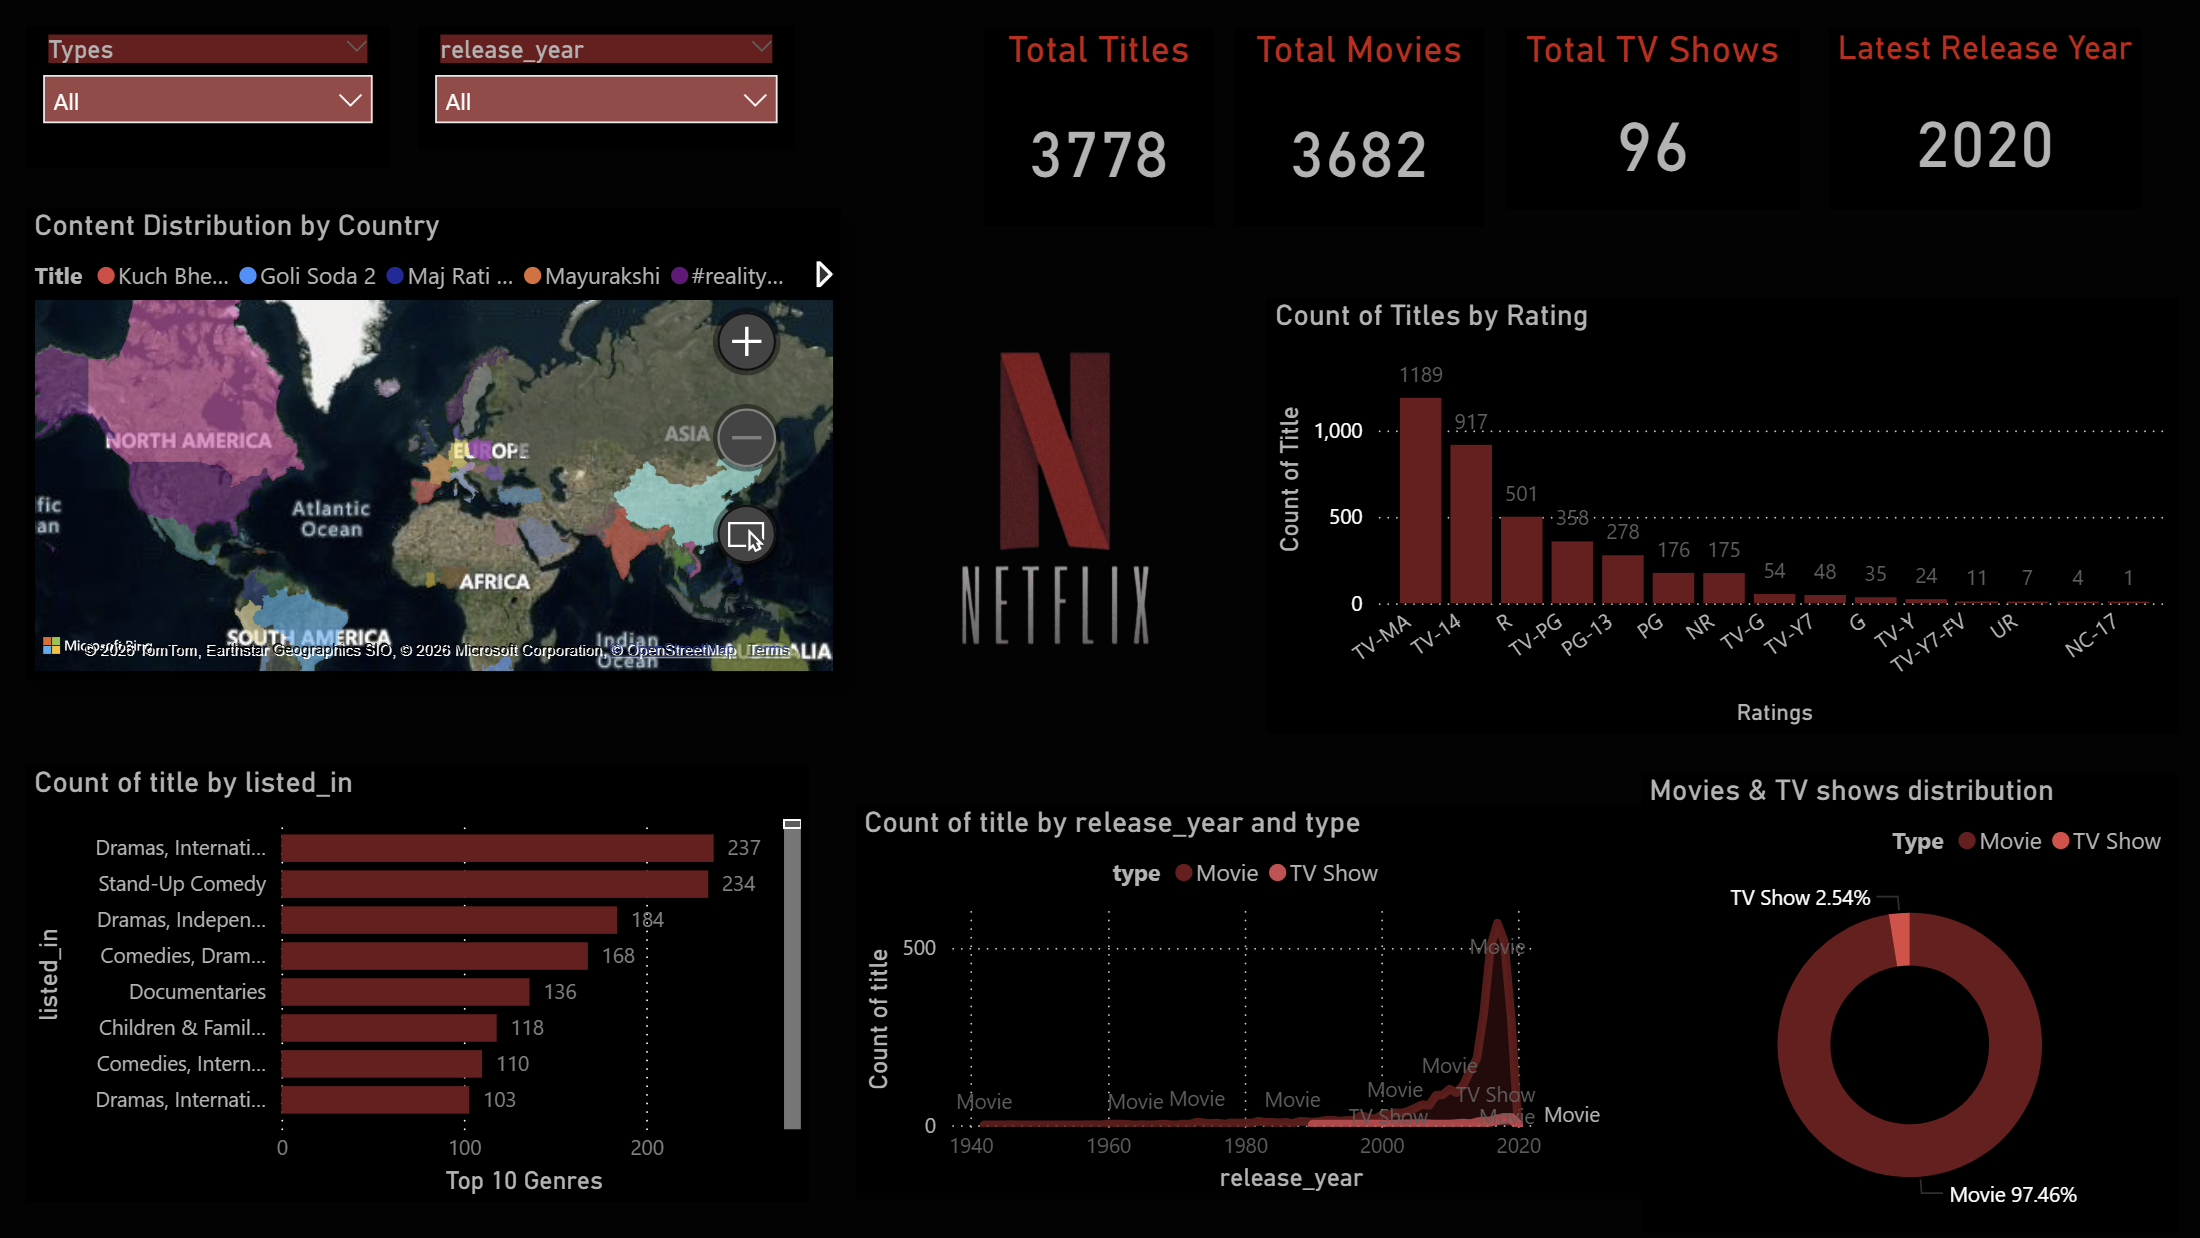

What the dashboard file says about the page in this screenshot:
{"tool":"powerbi","page":{"name":"Page 1","canvas":[1280,720],"ordinal":0},"visuals":[{"type":"filledMap","title":"Content Distribution by Country","fields":{"Category":["netflix_titles (1).country"],"Series":["netflix_titles (1).title"]},"box":[16.2,121.2,473.8,273.8],"z":0},{"type":"columnChart","title":" Count of Titles by Rating","fields":{"Category":["netflix_titles (1).rating"],"Y":["netflix_titles (1).title"]},"box":[737.5,173.8,530,252.5],"z":1000},{"type":"donutChart","title":"Movies & TV shows distribution","fields":{"Category":["netflix_titles (1).type"],"Y":["netflix_titles (1).title"]},"box":[955,448.8,312.5,267.5],"z":2000},{"type":"barChart","fields":{"Category":["netflix_titles (1).listed_in"],"Y":["netflix_titles (1).title"]},"box":[15.7,444.3,455.7,254.3],"z":3000},{"type":"image","box":[362.9,117.1,502.9,397.1],"z":4000},{"type":"lineChart","fields":{"Category":["netflix_titles (1).release_year"],"Y":["netflix_titles (1).title"],"Series":["netflix_titles (1).type"]},"box":[490,467.5,456.2,230],"z":5000},{"type":"slicer","fields":{"Values":["netflix_titles (1).type"]},"box":[16.2,15,211.2,82.5],"z":6000},{"type":"slicer","fields":{"Values":["netflix_titles (1).release_year"]},"box":[243.8,15,218.8,71.2],"z":7000},{"type":"card","title":"Total Titles","fields":{"Values":["netflix_titles (1).title"]},"box":[572.9,15.7,132.9,115.7],"z":8000},{"type":"card","title":"Total Movies","fields":{"Values":["netflix_titles (1).title"]},"box":[718.6,15.7,144.3,115.7],"z":9000},{"type":"card","title":"Total TV Shows","fields":{"Values":["netflix_titles (1).title"]},"box":[875.7,15.7,171.4,105.7],"z":10000},{"type":"card","title":"Latest Release Year","fields":{"Values":["netflix_titles (1).release_year"]},"box":[1064.3,15.7,181.4,105.7],"z":11000}]}

Visuals, with their boxes in screenshot pixels (x1, y1, x2, y2), scaled from the page's 1280x720 canvas onto the 2200x1238 screenshot:
"Content Distribution by Country" filledMap: (28, 208, 842, 679)
" Count of Titles by Rating" columnChart: (1268, 299, 2179, 733)
"Movies & TV shows distribution" donutChart: (1641, 772, 2179, 1232)
barChart - netflix_titles (1).listed_in x netflix_titles (1).title: (27, 764, 810, 1201)
image: (624, 201, 1488, 884)
lineChart - netflix_titles (1).release_year x netflix_titles (1).title: (842, 804, 1626, 1199)
slicer - netflix_titles (1).type: (28, 26, 391, 168)
slicer - netflix_titles (1).release_year: (419, 26, 795, 148)
"Total Titles" card: (985, 27, 1213, 226)
"Total Movies" card: (1235, 27, 1483, 226)
"Total TV Shows" card: (1505, 27, 1800, 209)
"Latest Release Year" card: (1829, 27, 2141, 209)
